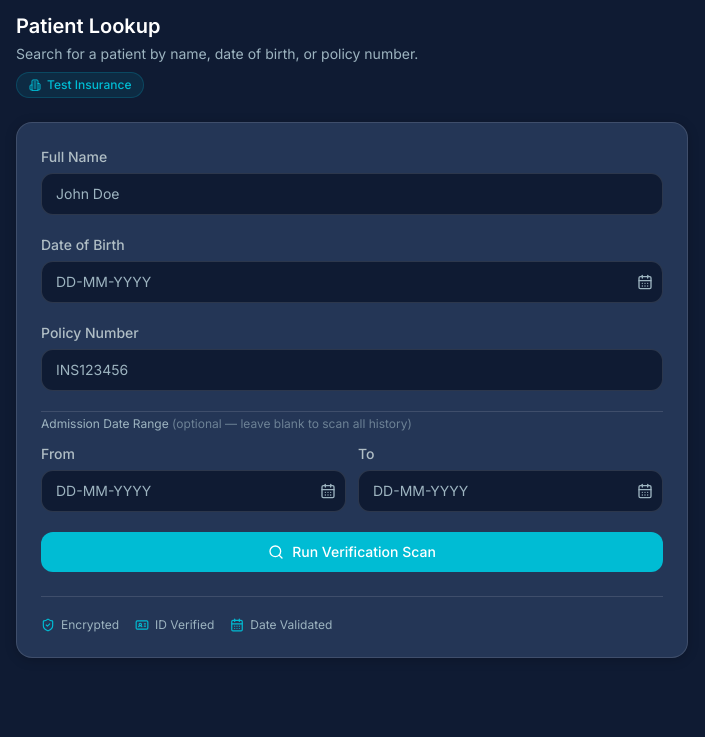
Test: PatientLookup › shows error on API failure
Type "Bad" into the field with placeholder "John Doe".
click(352, 194); type("Bad")  # box [41,173,663,215]
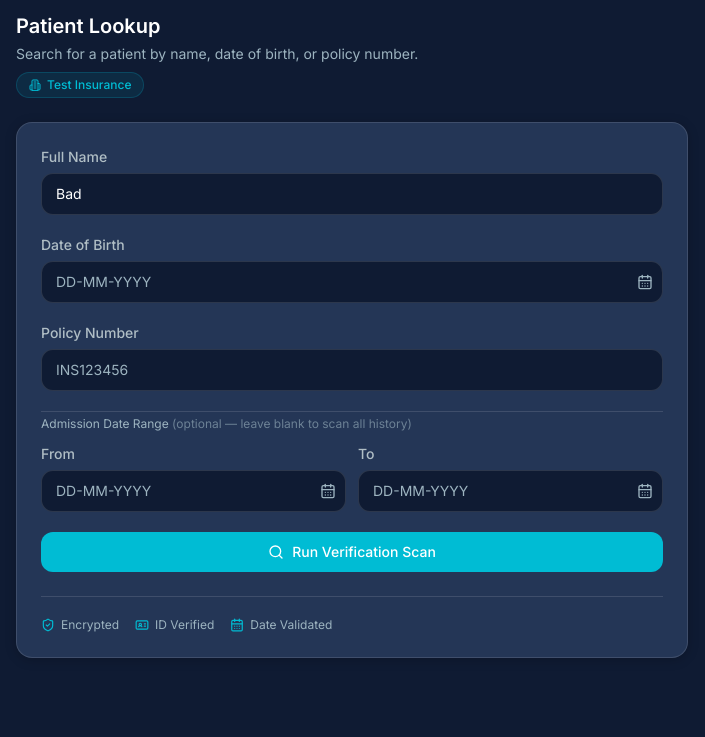
Type "20031985" into the field labelled "Date of Birth".
click(352, 282); type("20031985")  # box [41,261,663,303]
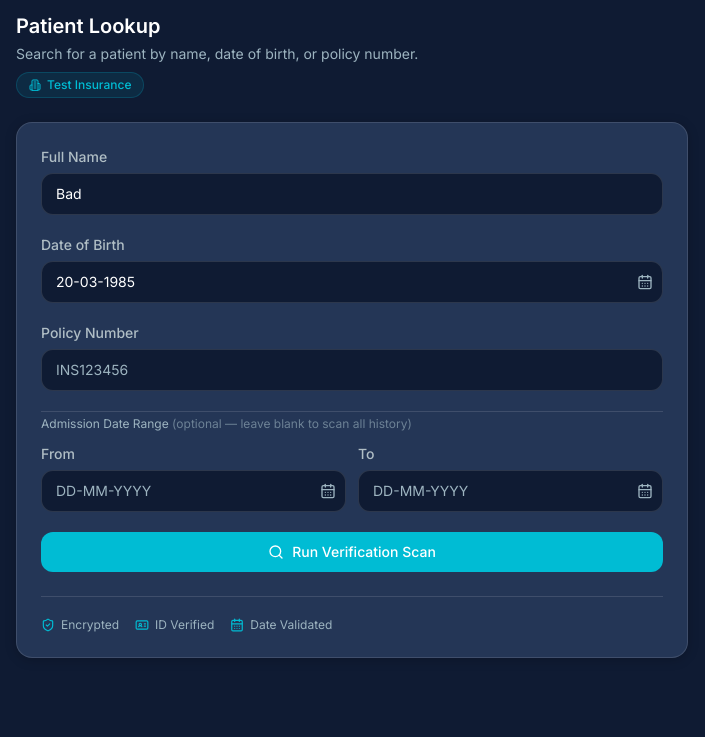
Type "INVALID" into the field with placeholder "INS123456".
click(352, 370); type("INVALID")  # box [41,349,663,391]
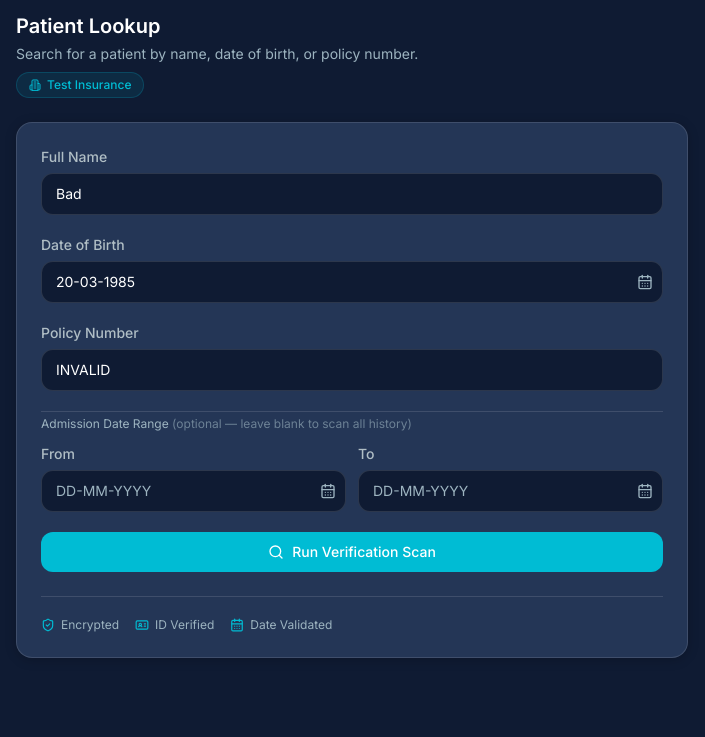
Submit the text "Run Verification Scan", box [41,147,663,572]
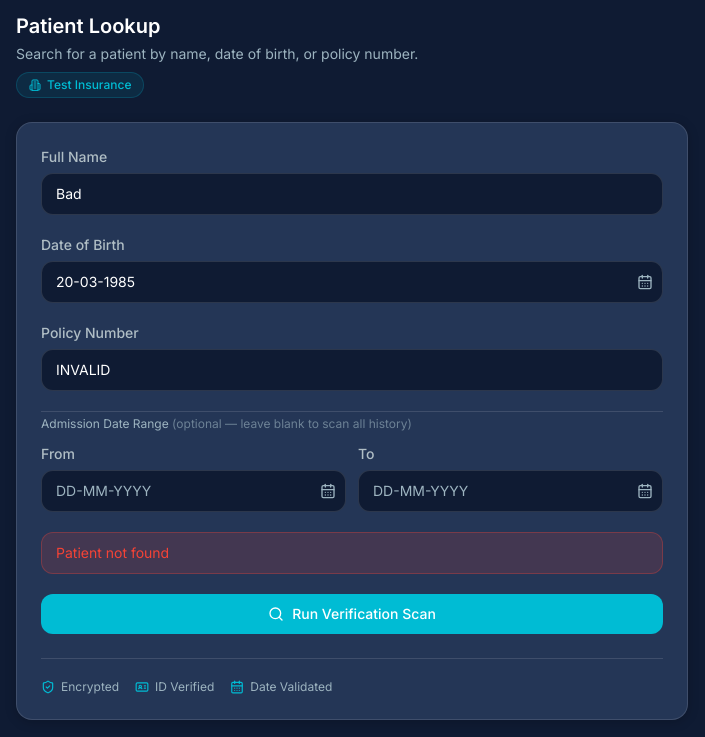
Now the text "Patient not found" is shown, box [56,544,169,561]
